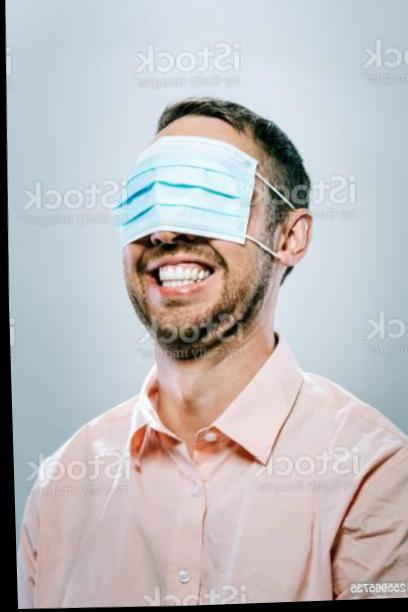WRONG: (117, 176, 265, 365)
